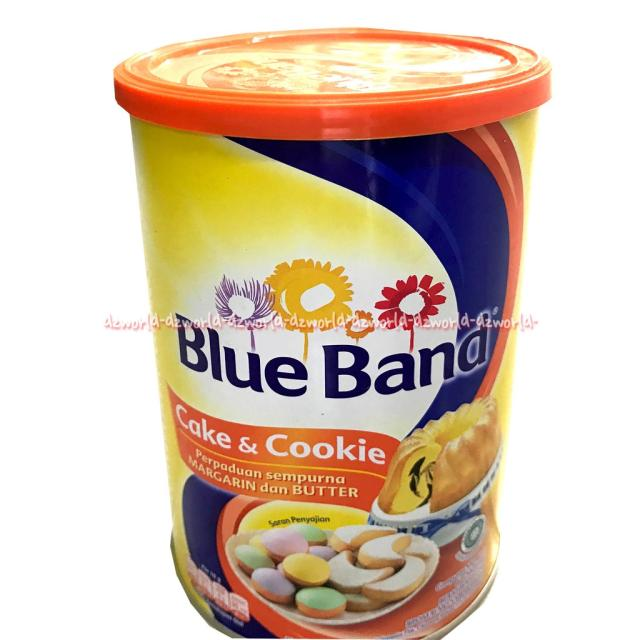butter: (113, 28, 551, 638)
